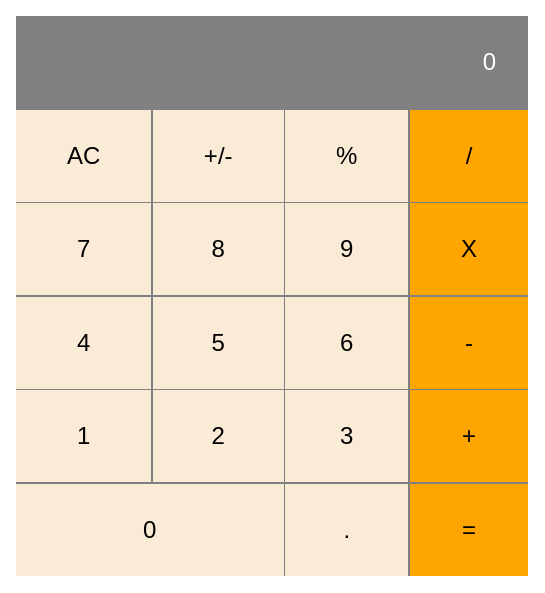
Test case: 1 subtract from 1 should be 0
Click the button with test id "no-1": (84, 436) [16,390,151,482]
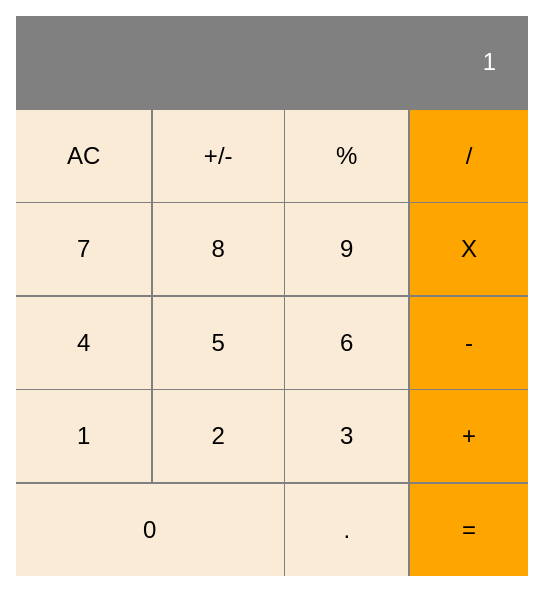
Click the button with test id "-": (469, 343) [410,297,528,389]
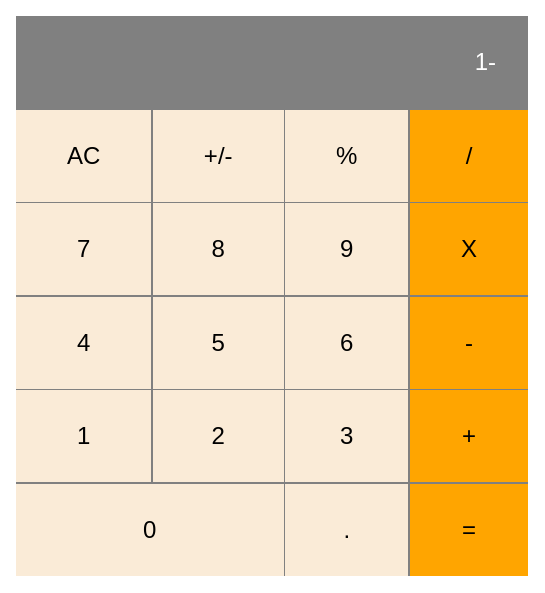
Click the button with test id "no-1": (84, 436) [16,390,151,482]
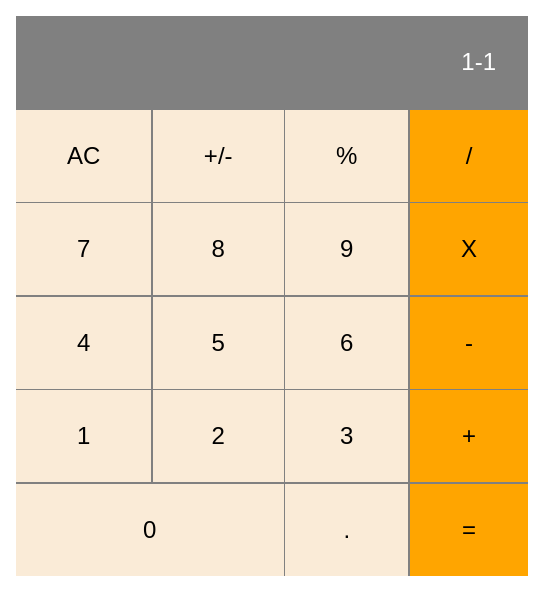
Click the button with test id "=": (469, 530) [410,484,528,576]
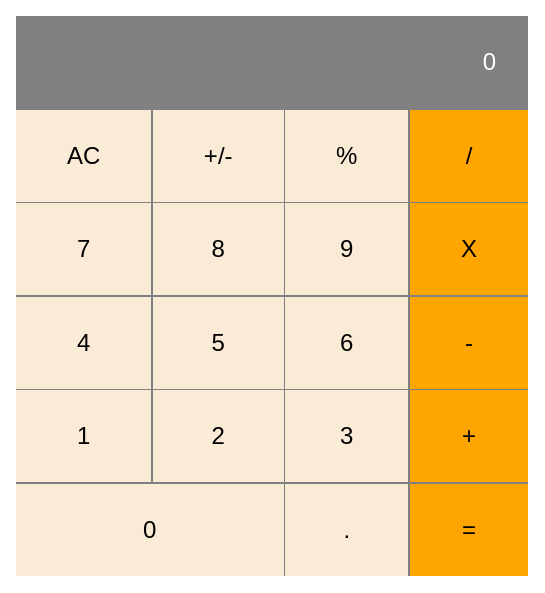
Check: the text with test id "result" reads "0", box [483,48,496,75]
